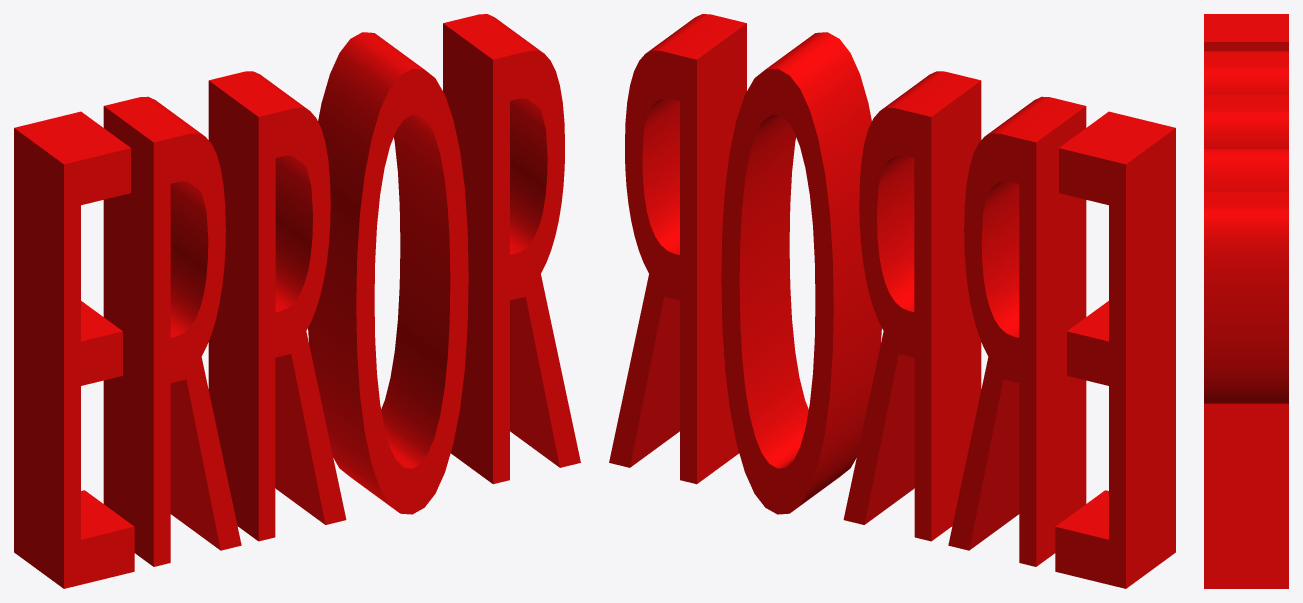
The model's file is error-scene-transformed.glb.
The picture shows the model from 3 angles, left to right: view 1: azimuth 30°, elevation 25°; view 2: azimuth 150°, elevation 25°; view 3: azimuth 270°, elevation 25°; orthographic projection. The views are drawn at different scales.
Parts seen in each view (by area): view 1: typeMesh1_typeBlinn_0; view 2: typeMesh1_typeBlinn_0; view 3: typeMesh1_typeBlinn_0.
Part boxes in pixels (box(x1,y1,x2,y2)): typeMesh1_typeBlinn_0: box(14, 14, 580, 588); typeMesh1_typeBlinn_0: box(609, 14, 1175, 588); typeMesh1_typeBlinn_0: box(1204, 14, 1288, 588).
Size of the model in its own units: 0.0987 by 0.0813 by 0.0165.
1 material, 1 textured.
